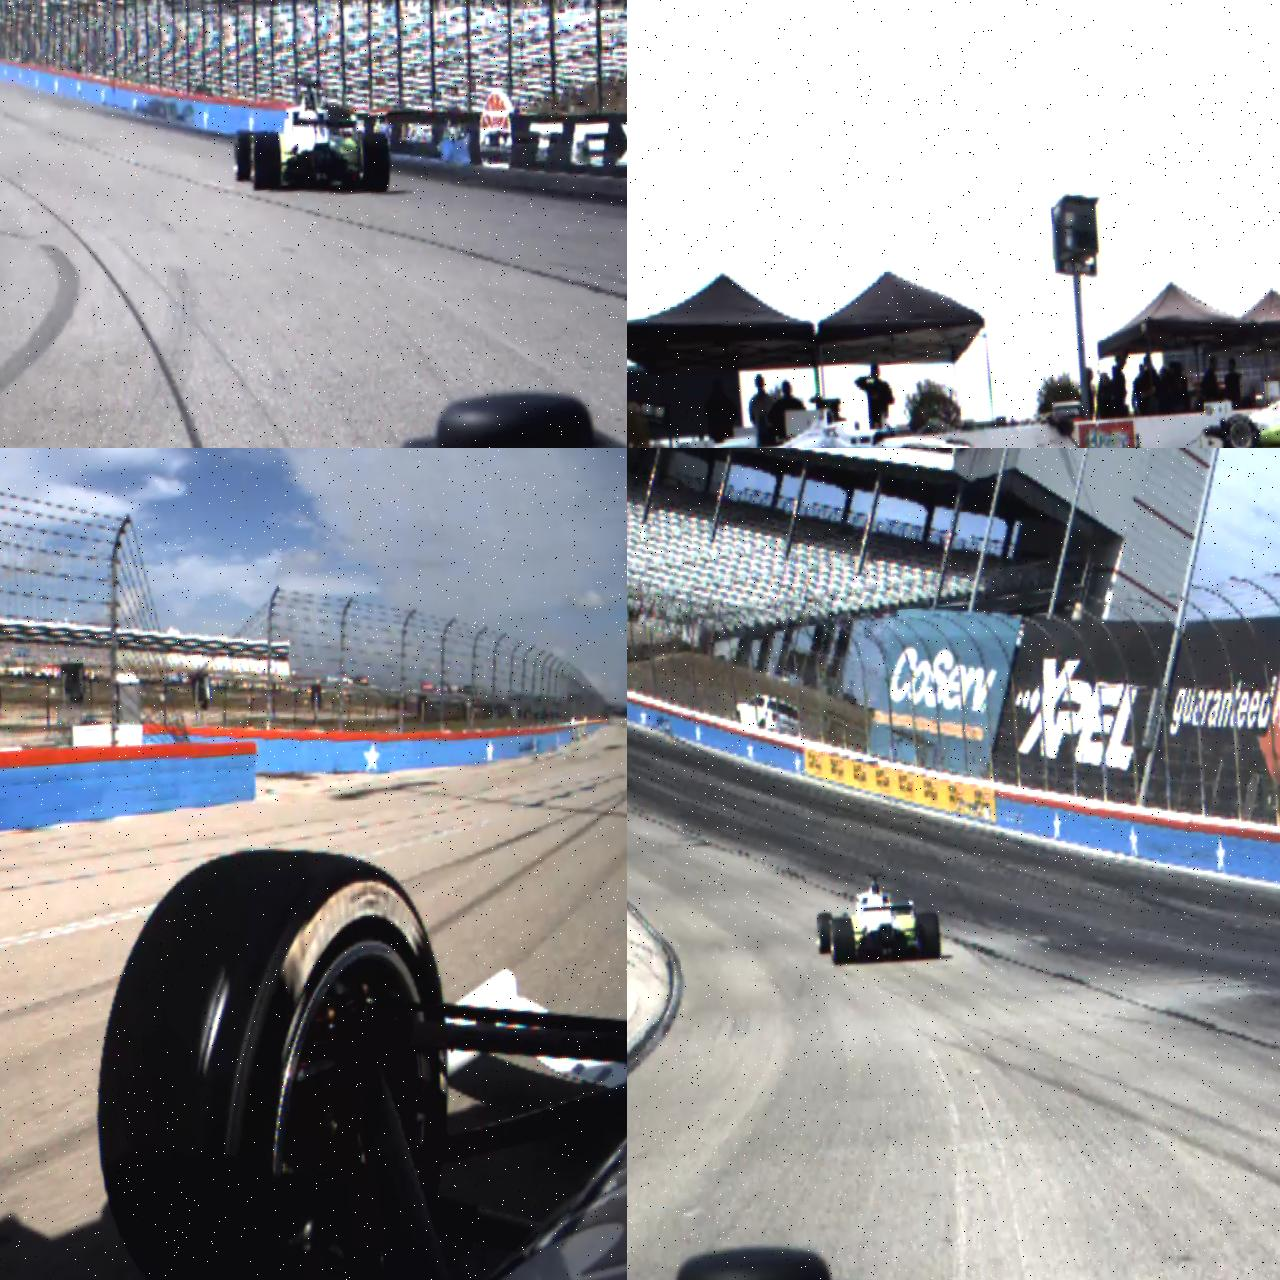AV: (672, 381, 1026, 448), (227, 72, 395, 204), (811, 869, 942, 967), (1201, 360, 1280, 448)
Wheel: (83, 838, 467, 1280), (359, 132, 394, 195), (248, 131, 282, 192), (231, 129, 258, 183), (1223, 411, 1259, 448), (830, 915, 856, 965), (915, 912, 941, 960), (816, 912, 833, 955)
